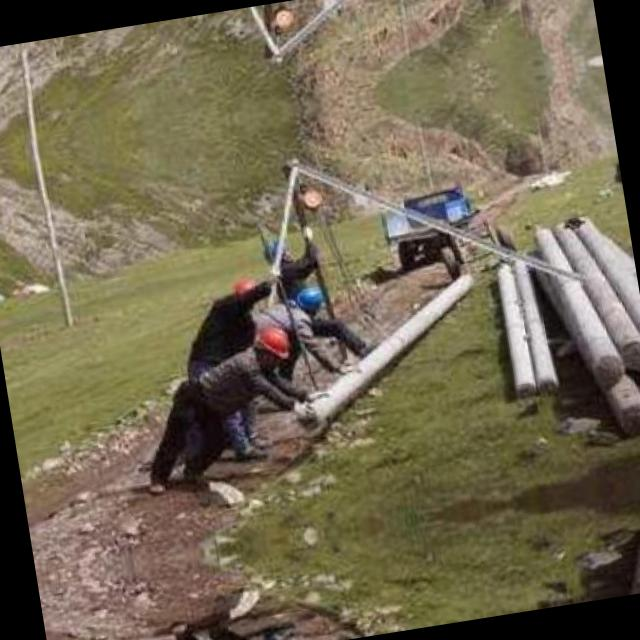helmet: (252, 322, 294, 373), (288, 284, 326, 316)
